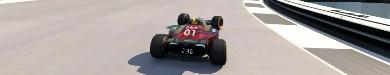Car: (149, 13, 226, 65)
Solid White and black: (242, 0, 389, 74)
